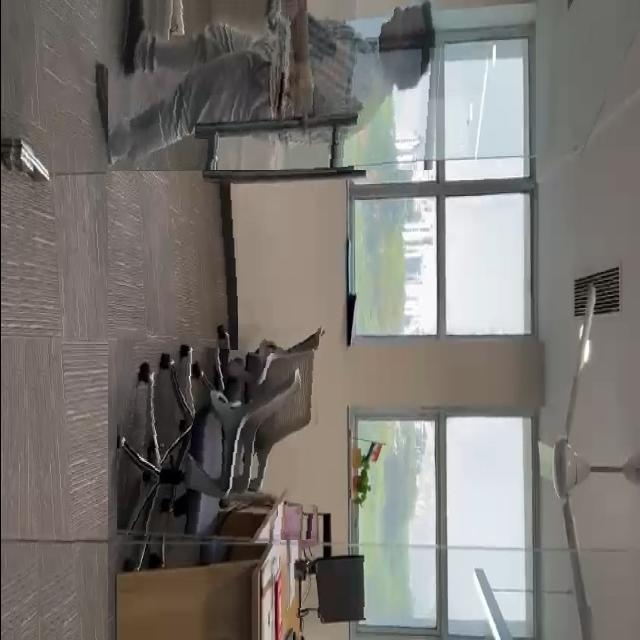floor: (0, 0, 107, 640), (104, 171, 237, 351)
furniture: (116, 328, 327, 546), (280, 539, 374, 618)
moving_object: (78, 0, 444, 170)
